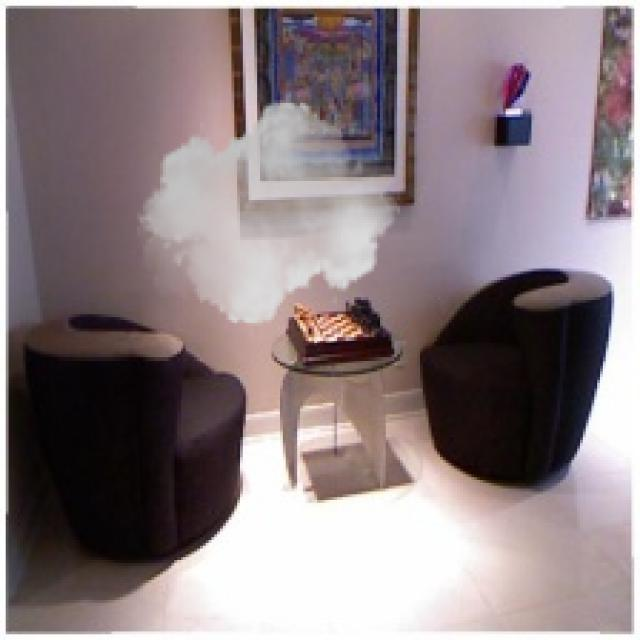smoke: (137, 92, 400, 334)
